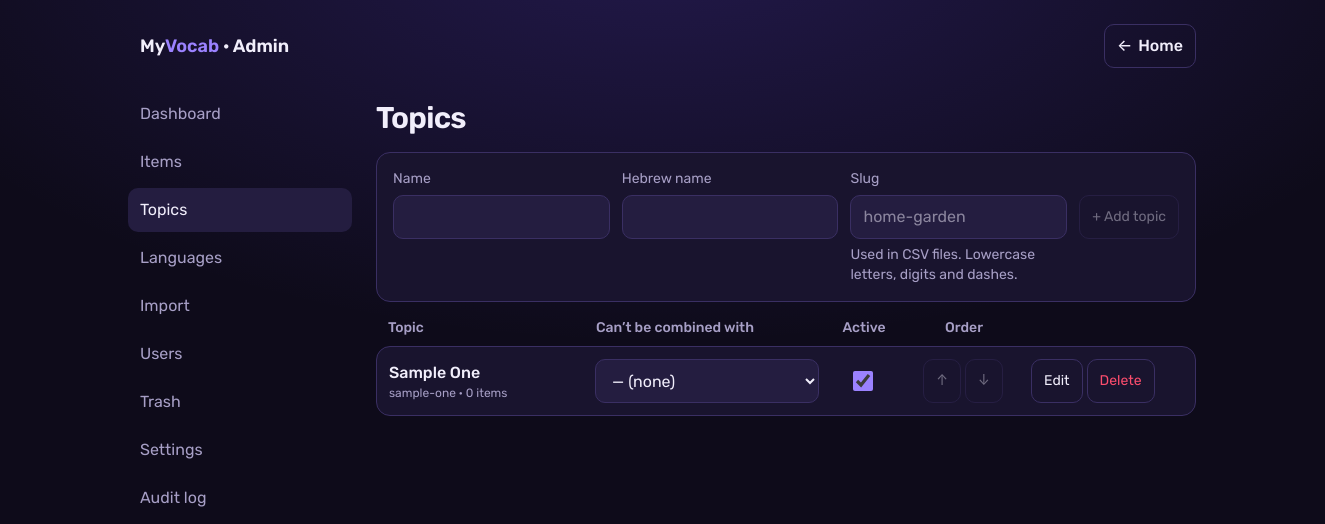
TopicsPage add form (FR-A30) › reports a bad or used slug under the field and keeps Add disabled
Expected: the text "Sample One" is shown, [389,363,480,382]
Type "Anything" into the field labelled "Name" at (501, 217), box [393,195,610,239]
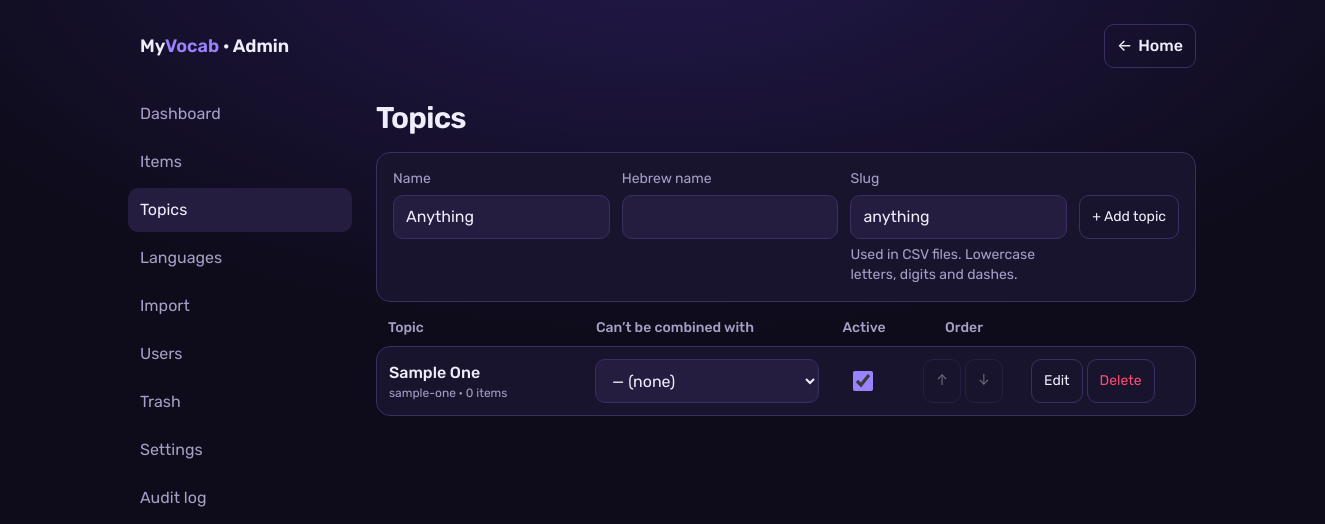
Replace the text in the field labelled "Slug" with "home garden" at (959, 217), box [850,195,1067,239]
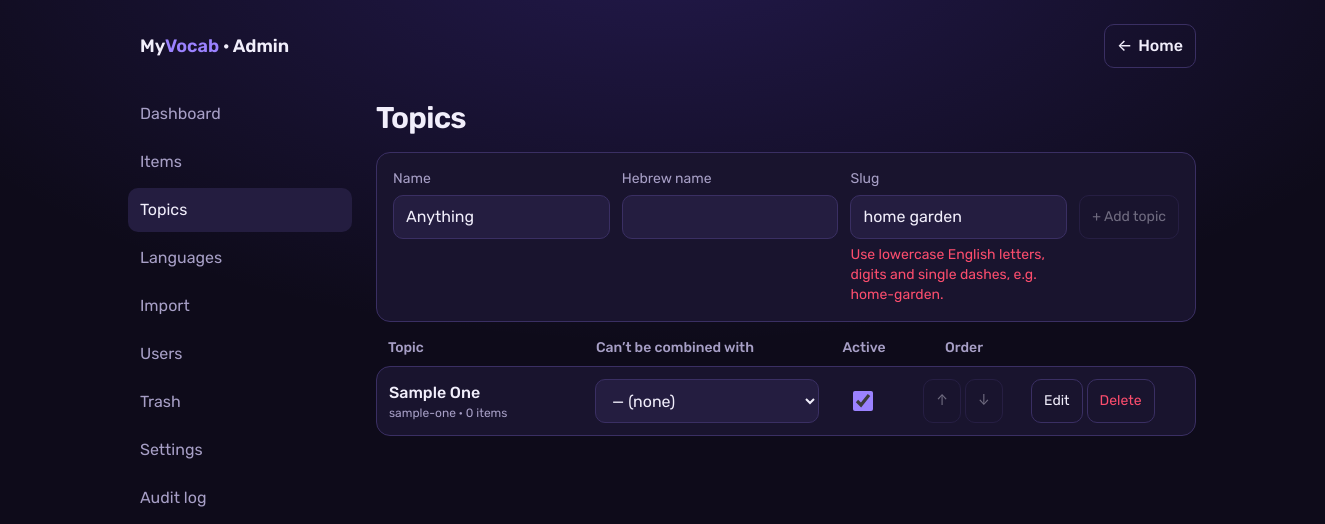
Expected: the text "Use lowercase English letters" is shown, [850,246,1045,303]
Expected: the button "+ Add topic" is disabled, [1079,195,1179,239]
Replace the text in the field labelled "Slug" with "sample-one" at (959, 217), box [850,195,1067,239]
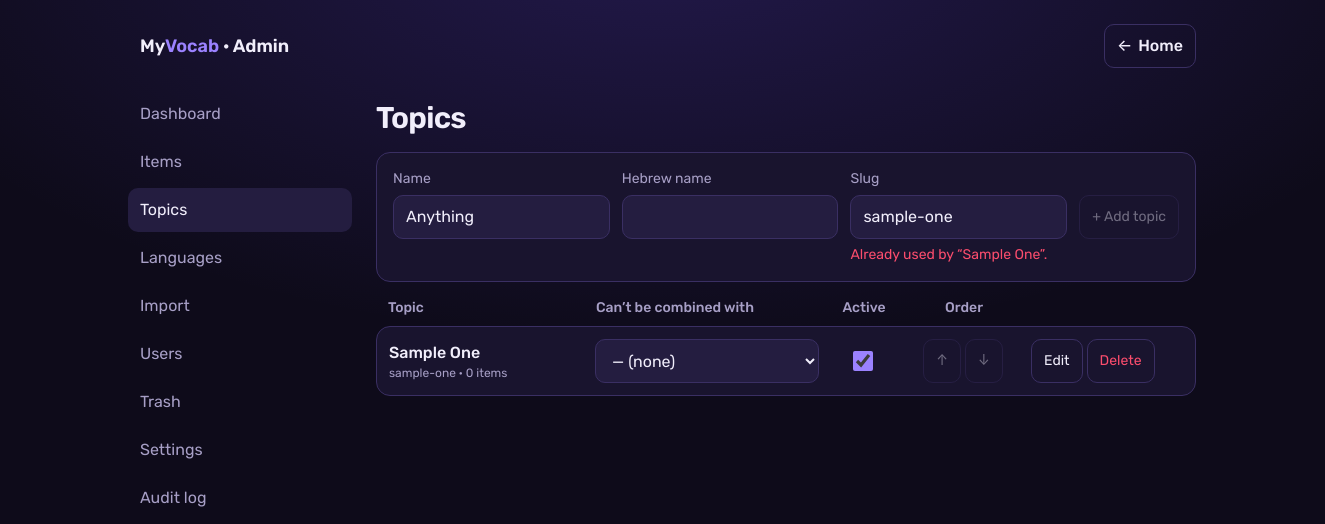
Expected: the button "+ Add topic" is disabled, [1079,195,1179,239]
Expected: the text "Already used by “Sample One”." is shown, [850,245,1067,265]
